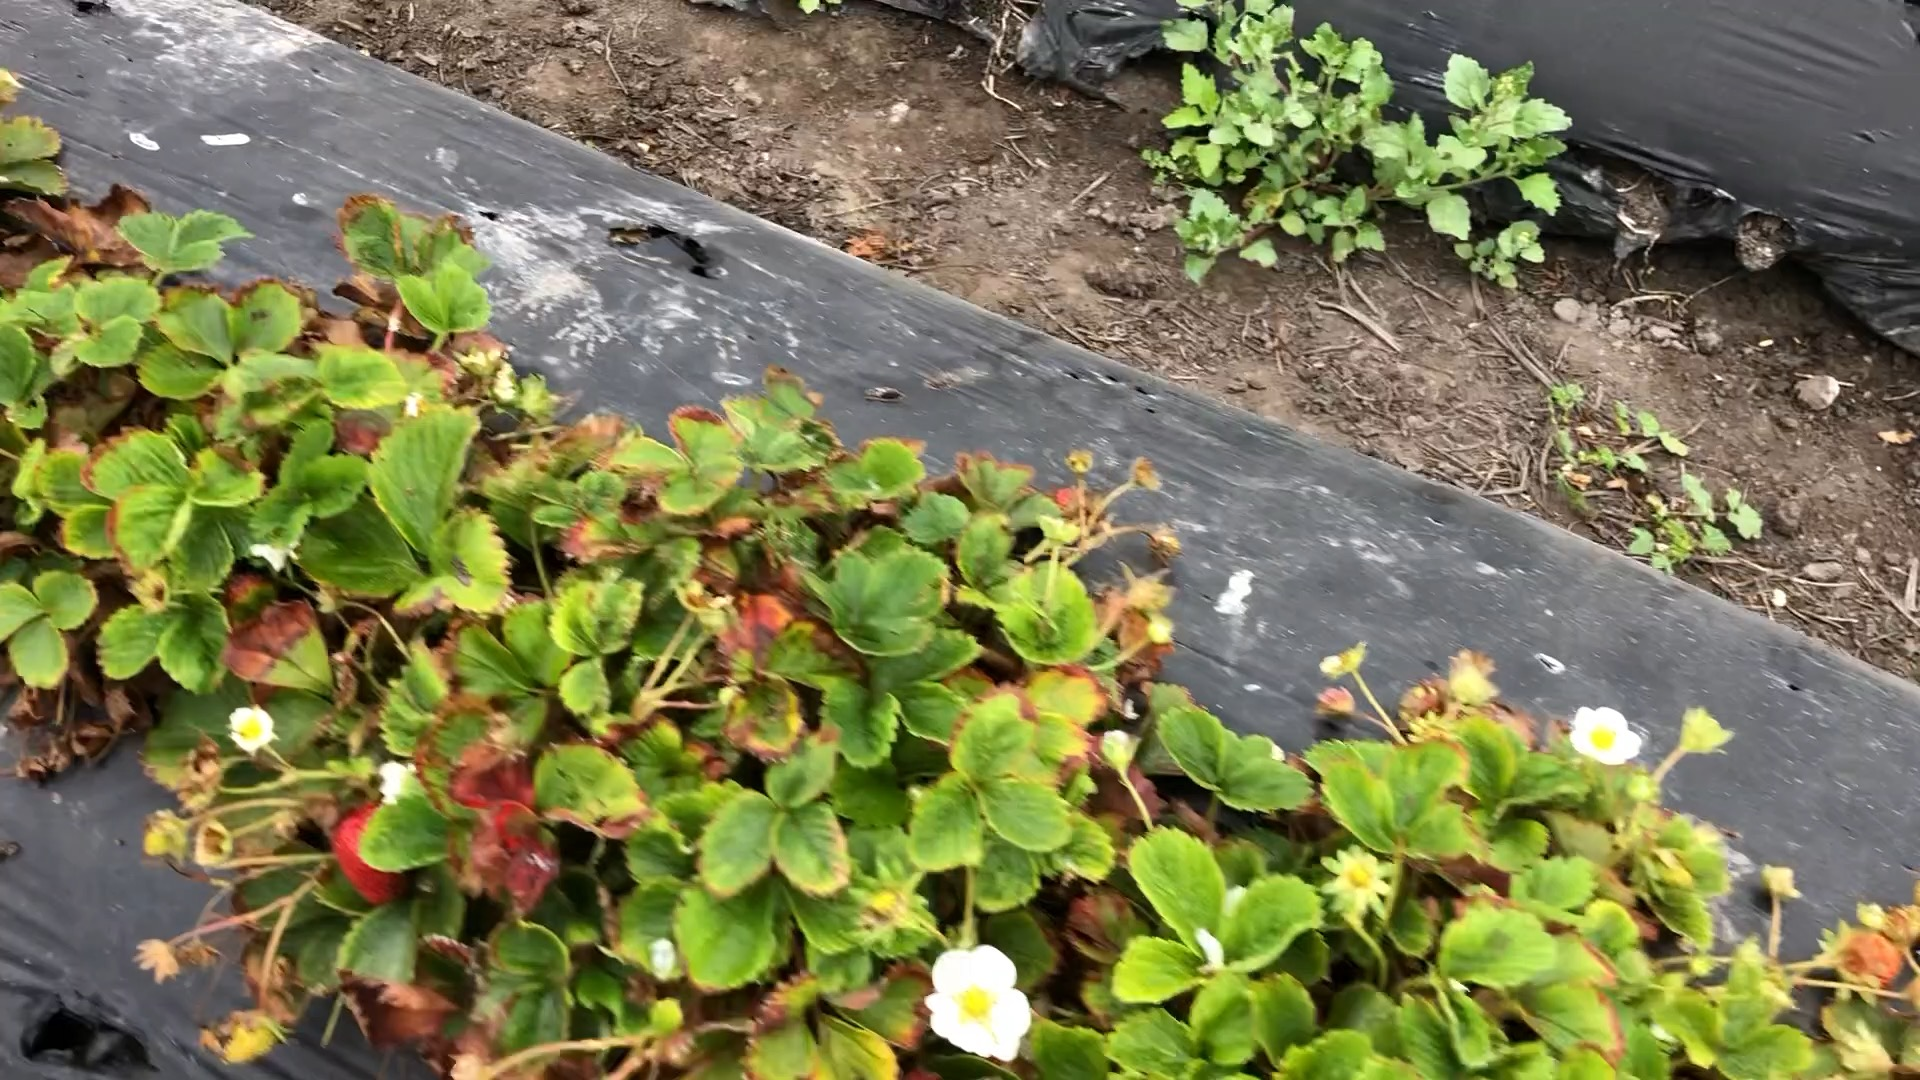ripe_strawberry: (331, 796, 415, 909)
unripe_strawberry: (222, 1015, 282, 1065)
